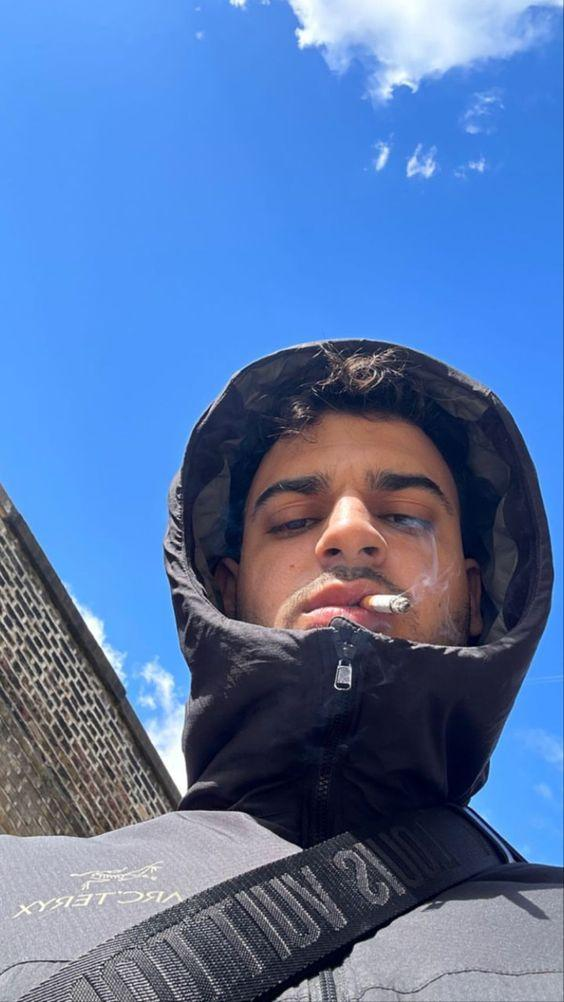cigarette: (362, 593, 411, 614)
